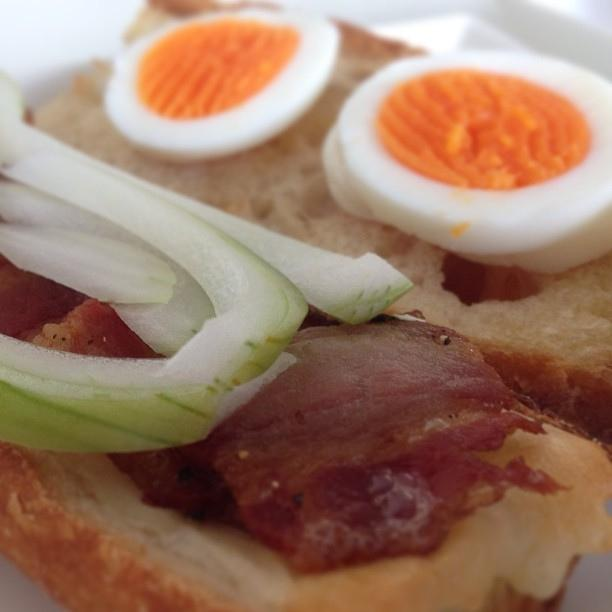onion: (0, 71, 415, 326), (0, 147, 290, 382), (0, 174, 215, 358), (0, 222, 177, 304)
